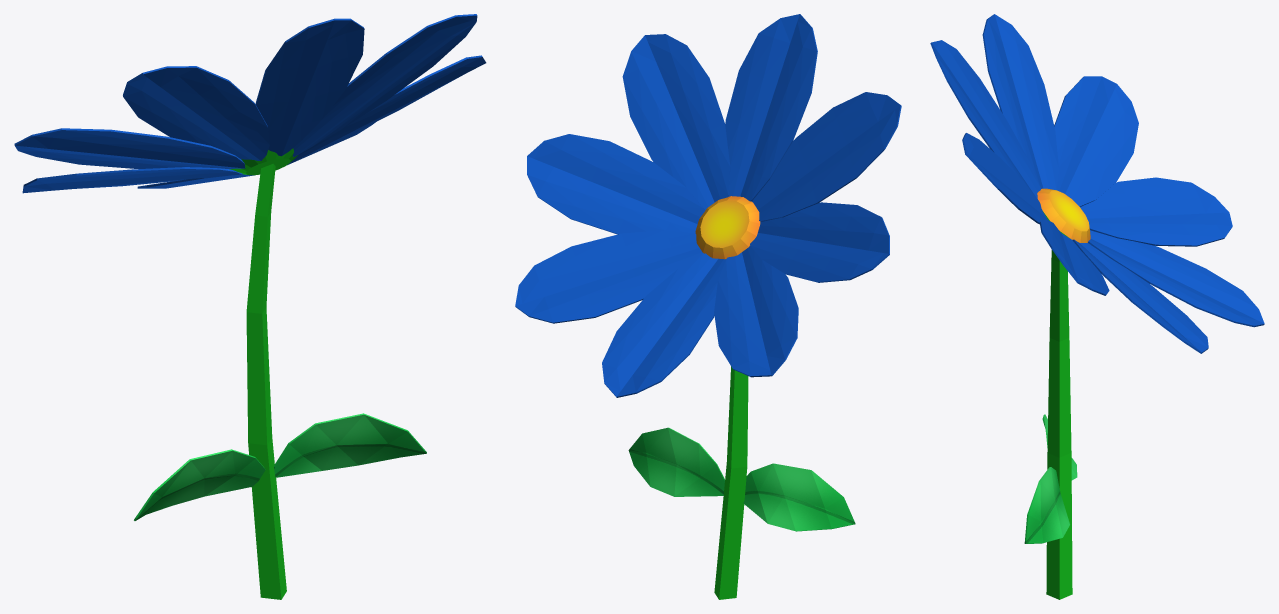
Rendered from flower3.obj.
The picture shows the model from 3 angles, left to right: view 1: azimuth 30°, elevation 25°; view 2: azimuth 150°, elevation 25°; view 3: azimuth 270°, elevation 25°; orthographic projection. The views are drawn at different scales.
Visible parts, largest first — view 1: flower3.002_Circle.044; view 2: flower3.002_Circle.044; view 3: flower3.002_Circle.044.
Boxes of the visible parts, x1,y1,x2,y2 form: flower3.002_Circle.044: (14,14,486,599); flower3.002_Circle.044: (515,14,901,599); flower3.002_Circle.044: (930,14,1264,599).
Bounding box in the file's own units: 1.09 × 1.47 × 0.8162.
